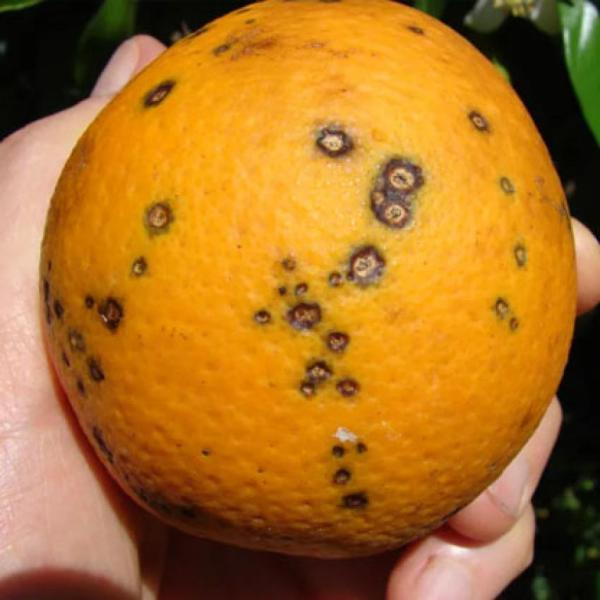Trips: (38, 0, 586, 569)
